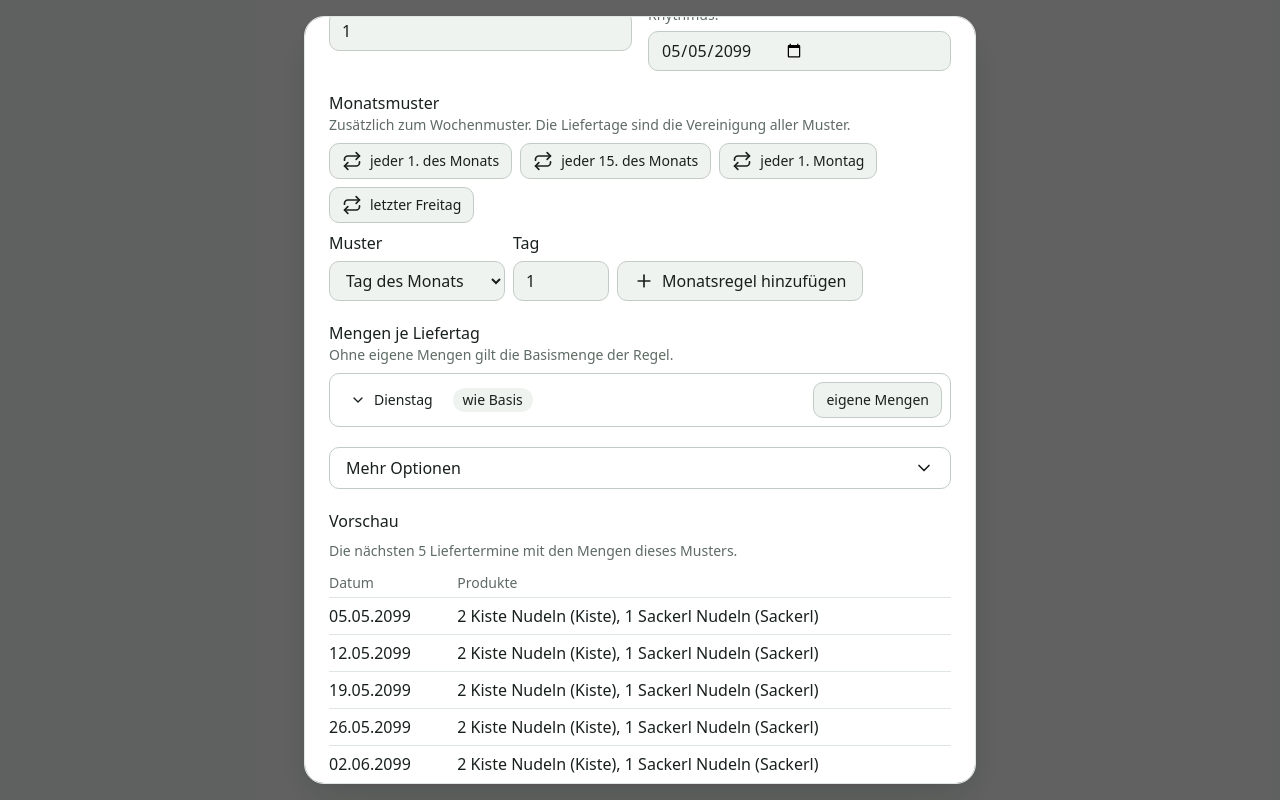
Test: OrderRecurringDialog (NUD-166, NUD-171) › shows own rows only for selected days and sends them as dayItems
This screenshot has width=1280, height=800.
Later steps or results of the test are not shown.
(page scrolled)
Expected: the element with test id "order-recurring-day-card-2" is shown, [329, 373, 951, 427]
Expected: the text with test id "order-recurring-day-state-2" reads "wie Basis", [463, 390, 523, 409]
Step 1. Click the button with test id "order-recurring-day-toggle-2" → point(391, 400), box [338, 382, 445, 418]
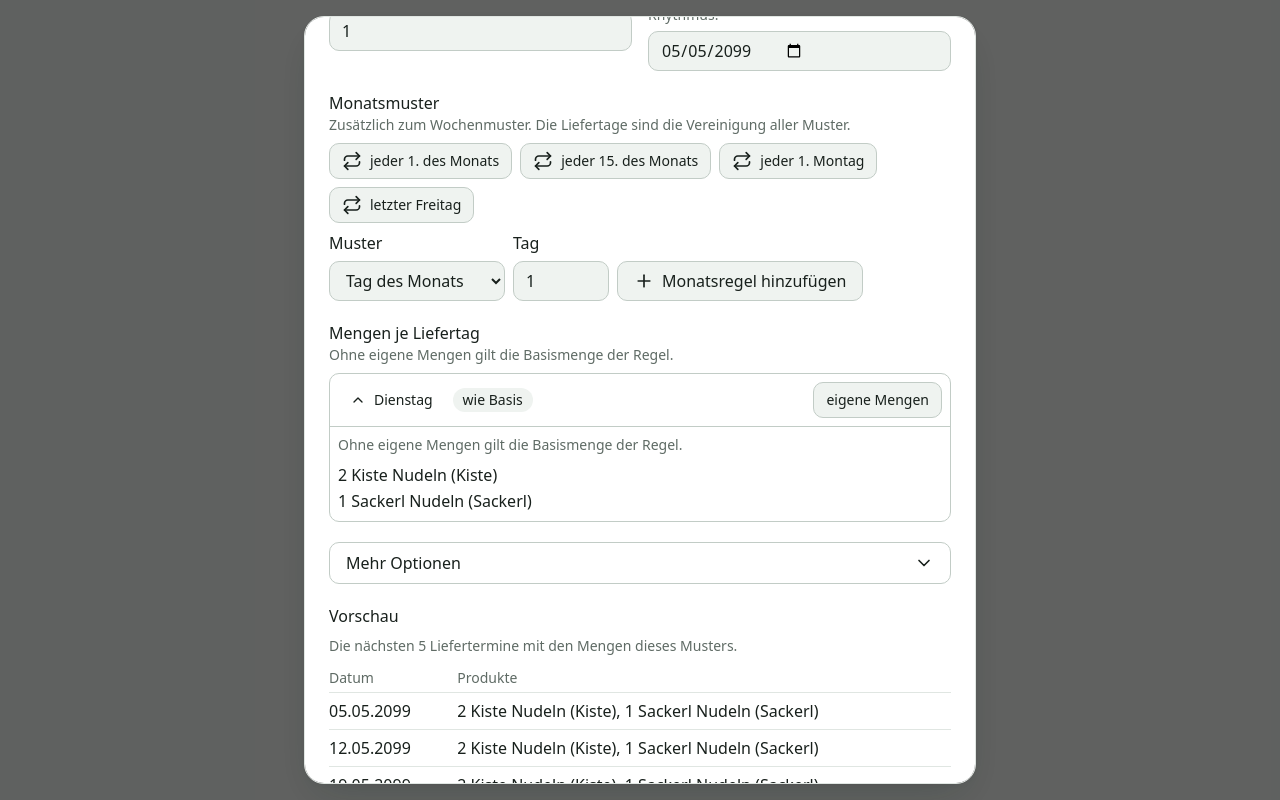
Expected: the list with test id "order-recurring-day-base-2" shows "Nudeln (Kiste)", [392, 464, 497, 486]
Step 2. Click the button with test id "order-recurring-day-own-2" → point(878, 400), box [813, 382, 942, 418]
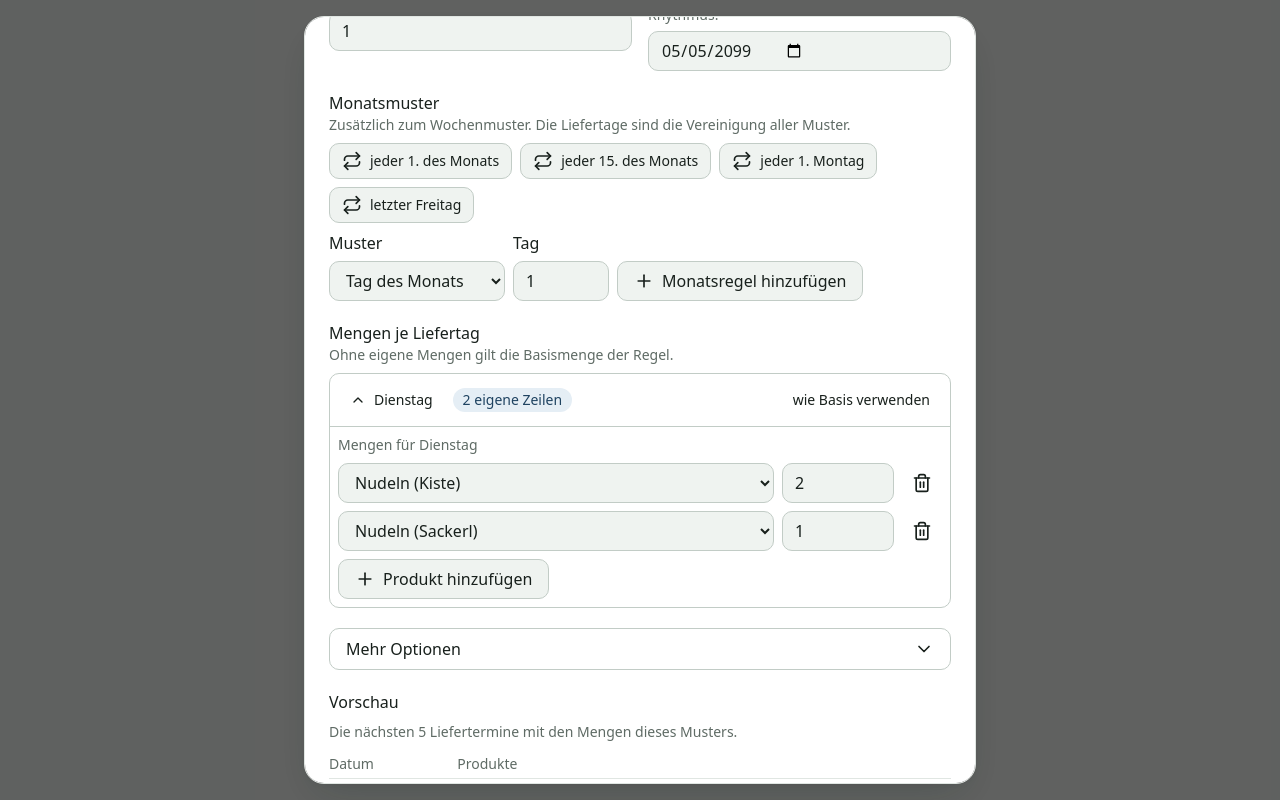
Expected: the number of fields with test id "order-recurring-day-line-2-quantity" is 2
Step 3. Replace the text in the field with test id "order-recurring-day-line-2-quantity" with "7" → point(838, 483), box [782, 463, 894, 503]
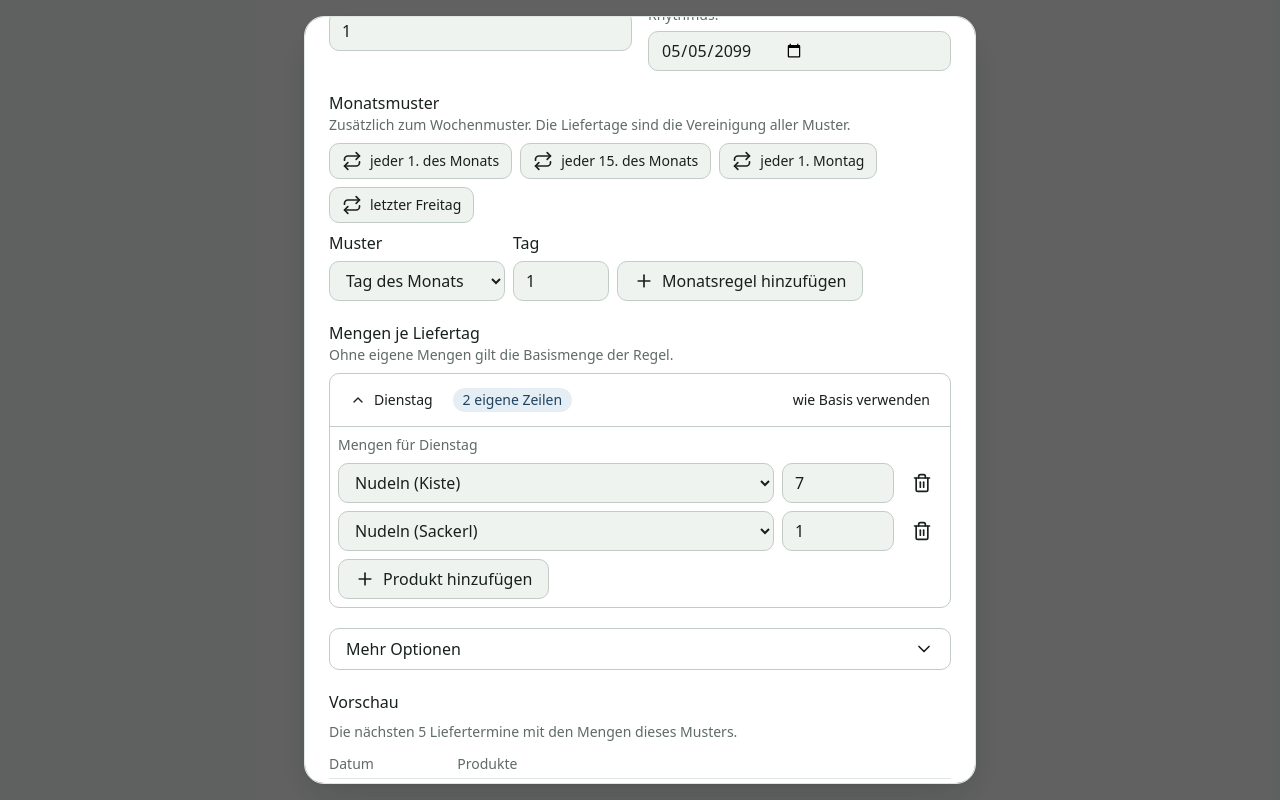
Step 4. Click the button with test id "order-recurring-day-line-2-remove" → point(922, 531), box [902, 511, 942, 551]
(page scrolled)
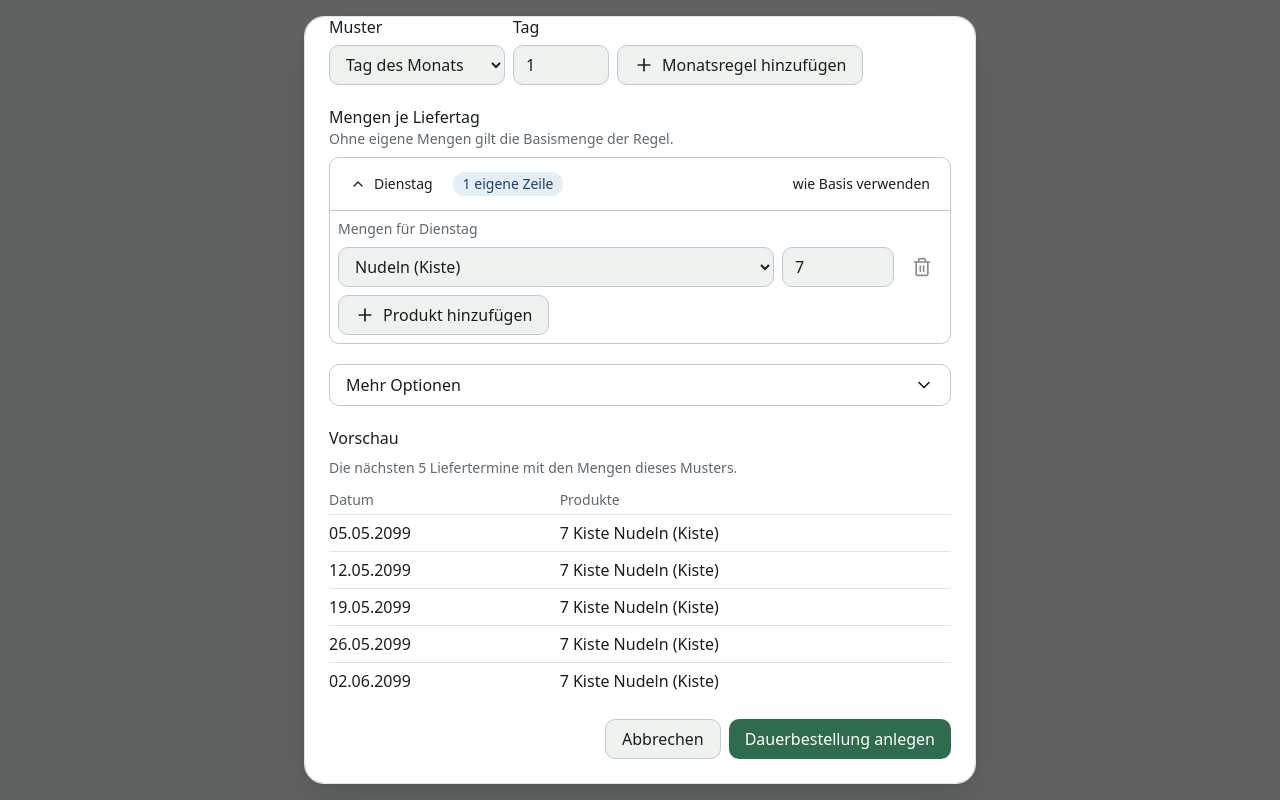
Expected: the text with test id "order-recurring-day-state-2" reads "1 eigene Zeile", [463, 174, 554, 193]
